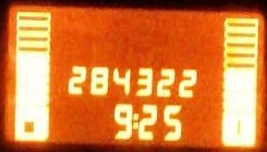2: (137, 103, 157, 140), (155, 67, 175, 97), (176, 68, 196, 98), (66, 65, 86, 95)
3: (134, 66, 153, 96)
4: (112, 66, 130, 95)
5: (162, 104, 181, 141)
8: (89, 66, 108, 95)
9: (112, 102, 132, 139)
X: (132, 112, 138, 129)
